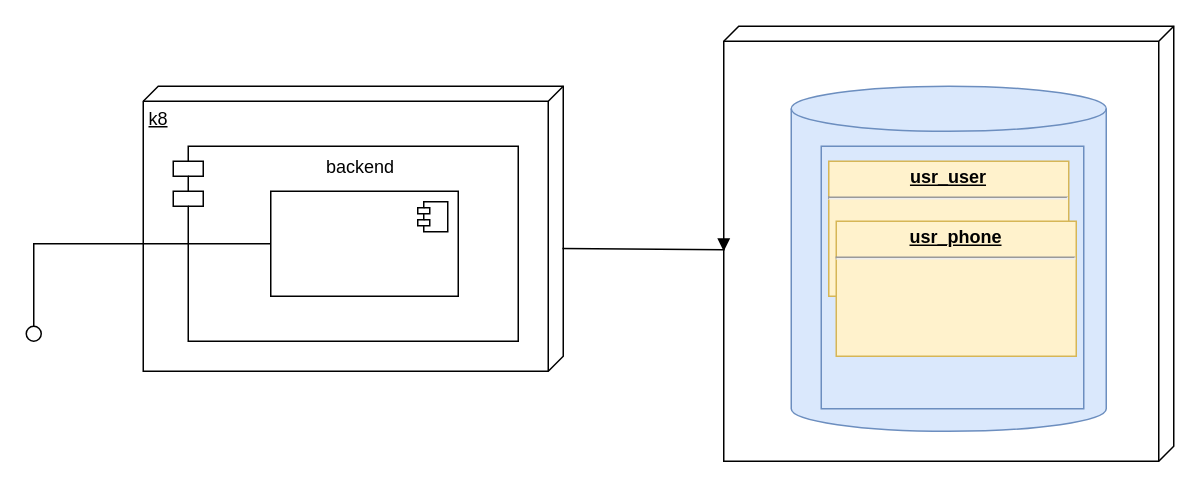
The diagram is 1200 pixels wide and 488 high, and some of its shapes have lost their labels. Here are the shapes that lost their labels. From the top down, the box of each, then its label:
(269, 190, 458, 296): ms-admin-user-be
(722, 25, 1174, 461): H2 DataStore
